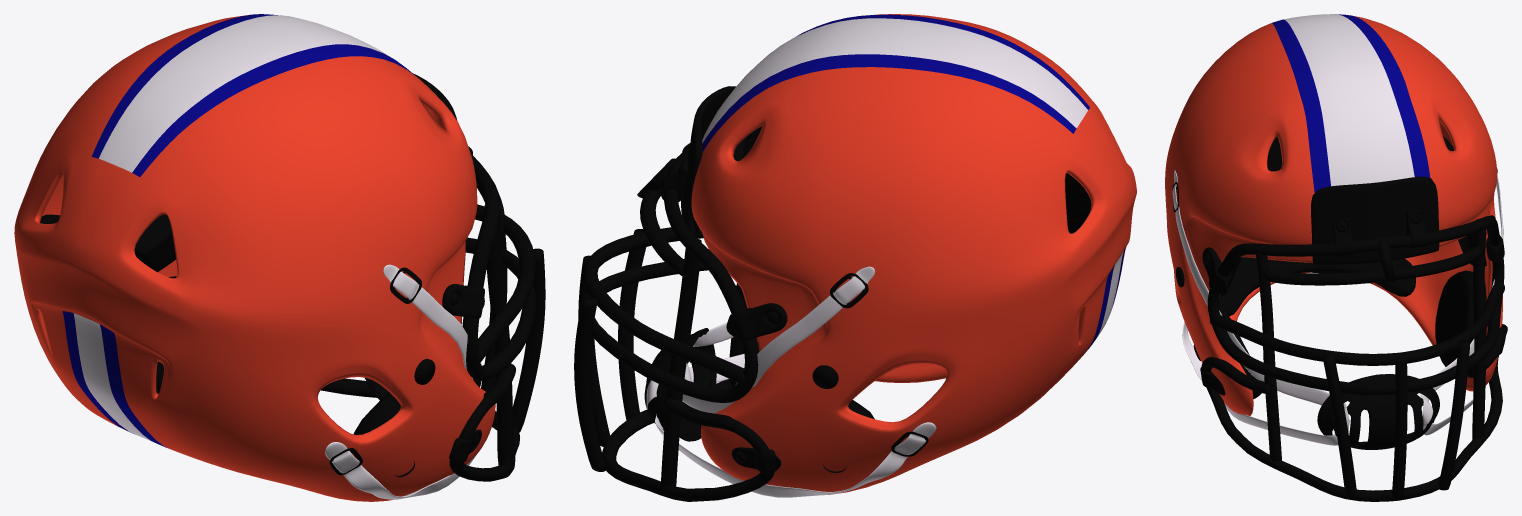
File: Helmet.gltf
The picture shows the model from 3 angles, left to right: view 1: azimuth 30°, elevation 25°; view 2: azimuth 150°, elevation 25°; view 3: azimuth 270°, elevation 25°; orthographic projection. The views are drawn at different scales.
Parts seen in each view (by area): view 1: Helmet, FaceMask, Stripe1, Stripe2, Padding; view 2: Helmet, FaceMask, Stripe1, Padding, Stripe2; view 3: Helmet, FaceMask, Stripe1, Padding, Stripe2.
Part boxes in pixels (x1,y1,x2,y2): Helmet: (14,15,495,501); FaceMask: (321,73,545,481); Stripe1: (73,15,393,441); Stripe2: (62,14,415,447); Padding: (40,214,482,499); Helmet: (691,14,1136,494); FaceMask: (574,86,928,501); Stripe1: (702,18,1123,338); Padding: (646,126,1091,497); Stripe2: (702,14,1125,358); Helmet: (1165,16,1502,415); FaceMask: (1172,168,1507,501); Stripe1: (1283,14,1414,186); Padding: (1172,136,1503,445); Stripe2: (1272,14,1430,192).
Size of the model in its own units: 0.3087 by 0.2733 by 0.2343.
